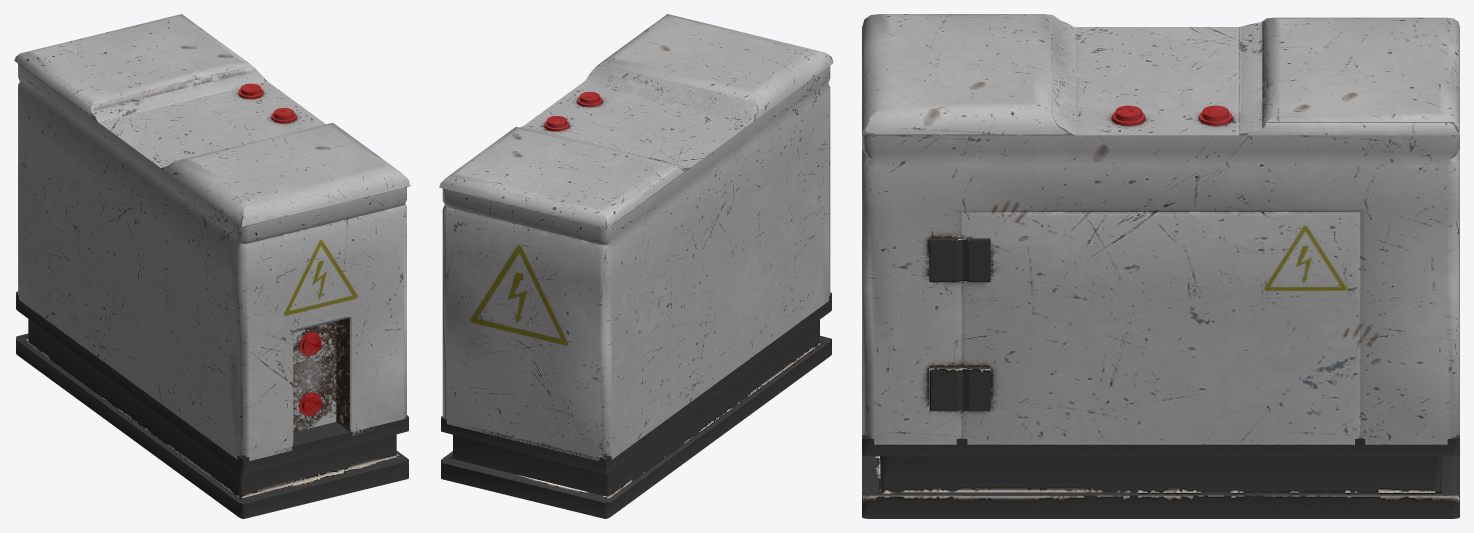
File: generator.fbx
3 renders of one model, left to right at view 1: azimuth 30°, elevation 25°; view 2: azimuth 150°, elevation 25°; view 3: azimuth 270°, elevation 25°, orthographic. The views are drawn at different scales.
Visible parts, largest first — view 1: Cube.003; view 2: Cube.003; view 3: Cube.003.
Boxes of the visible parts, x1=… form: Cube.003: x1=14, y1=14, x2=410, y2=518; Cube.003: x1=439, y1=14, x2=833, y2=518; Cube.003: x1=862, y1=14, x2=1459, y2=518.
Bounding box in the file's own units: 153 × 262 × 350.
Materials: 3 (3 with a texture image).
